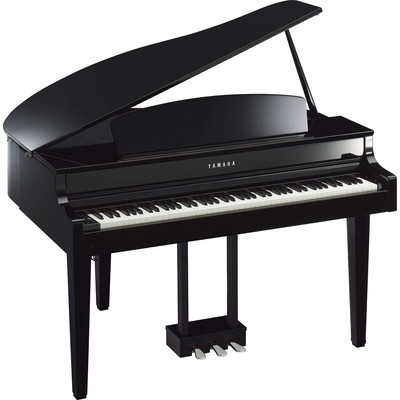piano: (2, 1, 400, 400)
